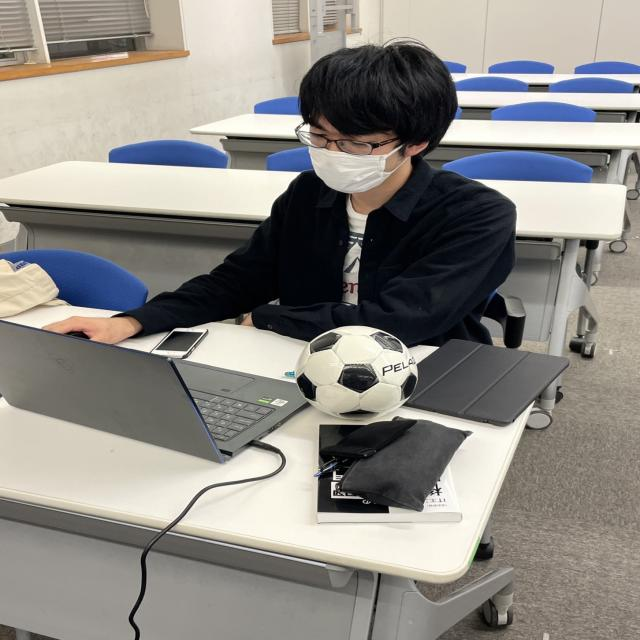ball: (294, 328, 421, 422)
